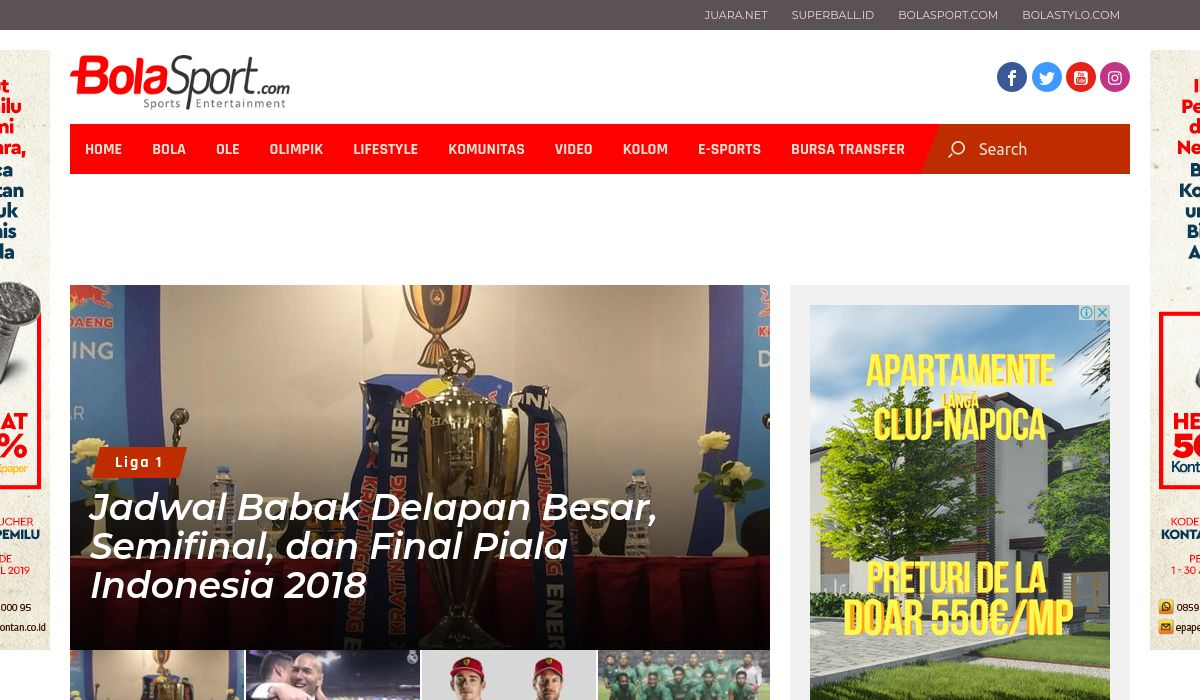menu: (1, 1, 1199, 29)
menu-button: (895, 3, 1001, 23), (1018, 4, 1124, 24), (787, 4, 877, 24), (699, 4, 771, 25)
